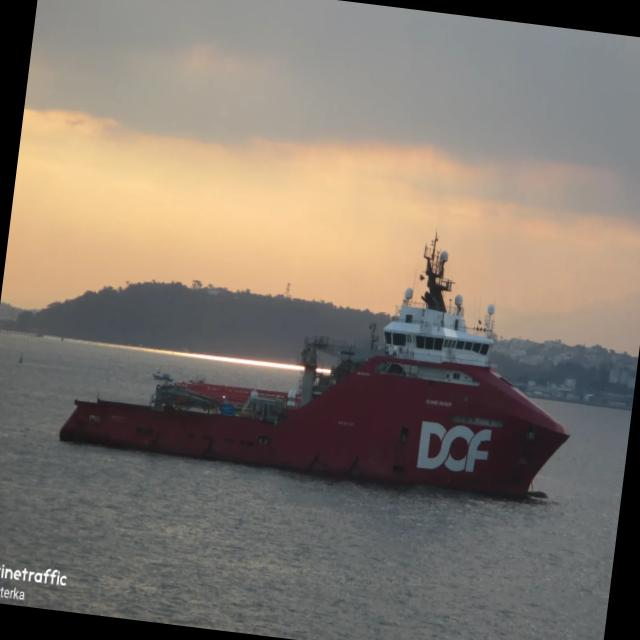Offshore: (59, 234, 568, 498)
